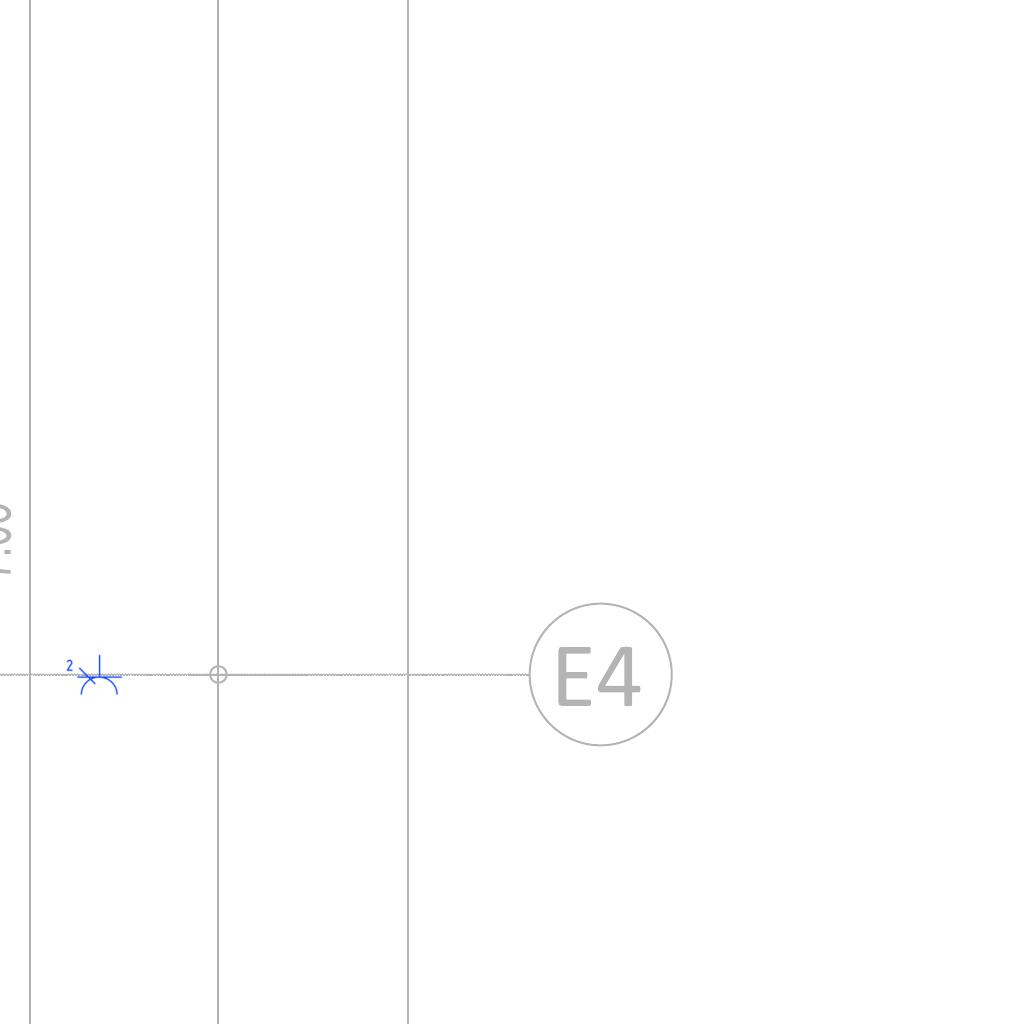Schukosteckdose_mehrfach: (63, 654, 123, 698)
